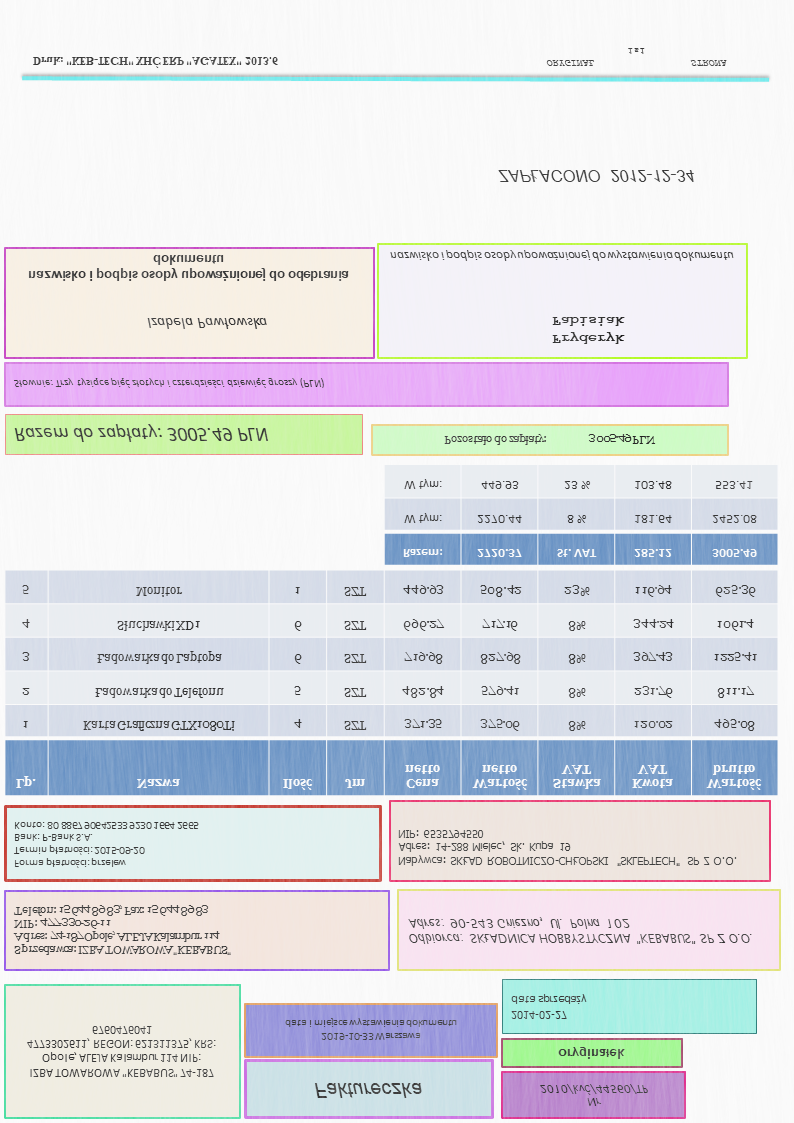Table: (3, 568, 779, 797), (382, 464, 780, 568)
TextBox: (396, 827, 739, 869), (11, 902, 233, 960), (24, 1023, 218, 1082), (404, 916, 755, 947), (26, 252, 350, 283), (11, 820, 199, 871), (387, 248, 736, 266), (12, 425, 271, 446), (282, 1015, 460, 1043), (12, 376, 327, 390), (545, 46, 728, 70), (29, 52, 281, 69), (495, 165, 698, 186), (537, 1079, 651, 1110), (441, 432, 657, 448), (549, 314, 629, 347), (509, 990, 588, 1022), (313, 1080, 423, 1101), (145, 315, 269, 331), (555, 1045, 627, 1062)
